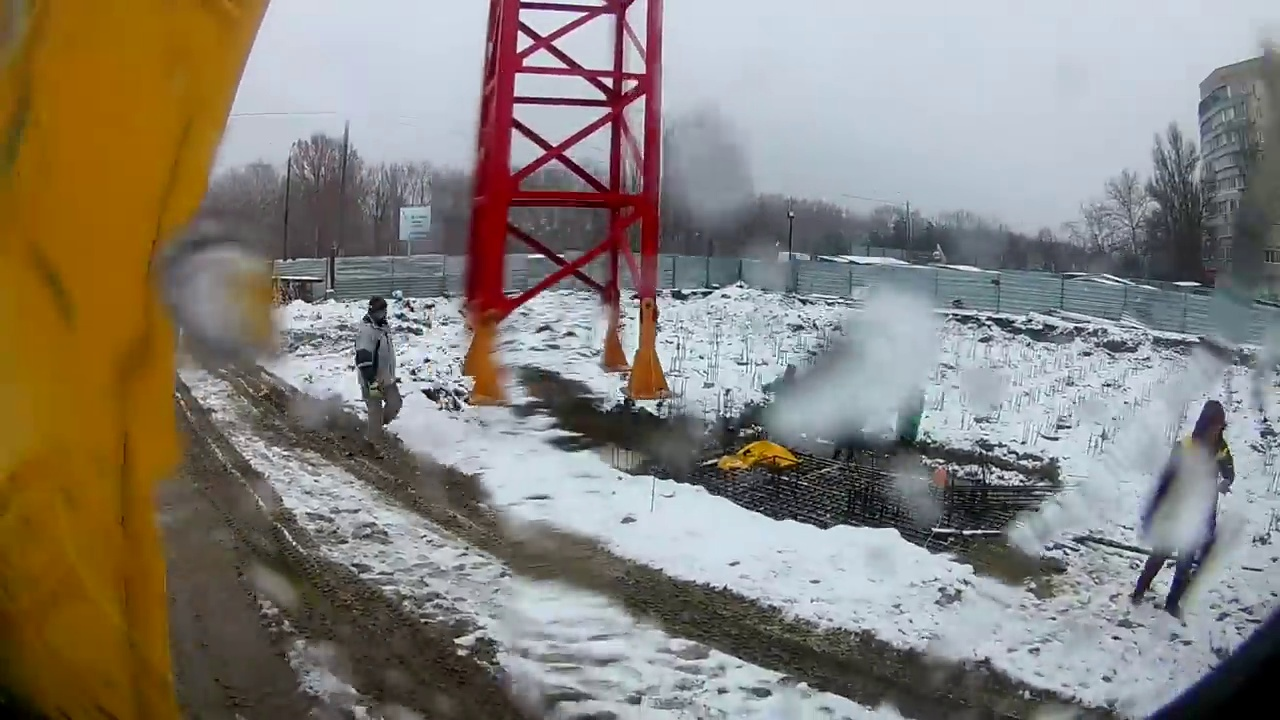helmet-off: (358, 294, 390, 338)
helmet-on: (1193, 407, 1229, 457)
person: (1130, 405, 1242, 618), (348, 295, 405, 457)
